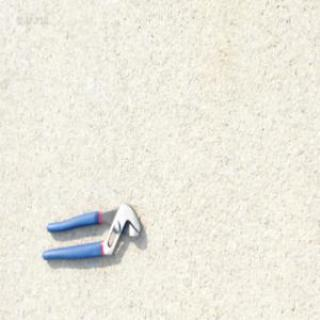Pliertrack_idkeyframe: (40, 200, 142, 264)
